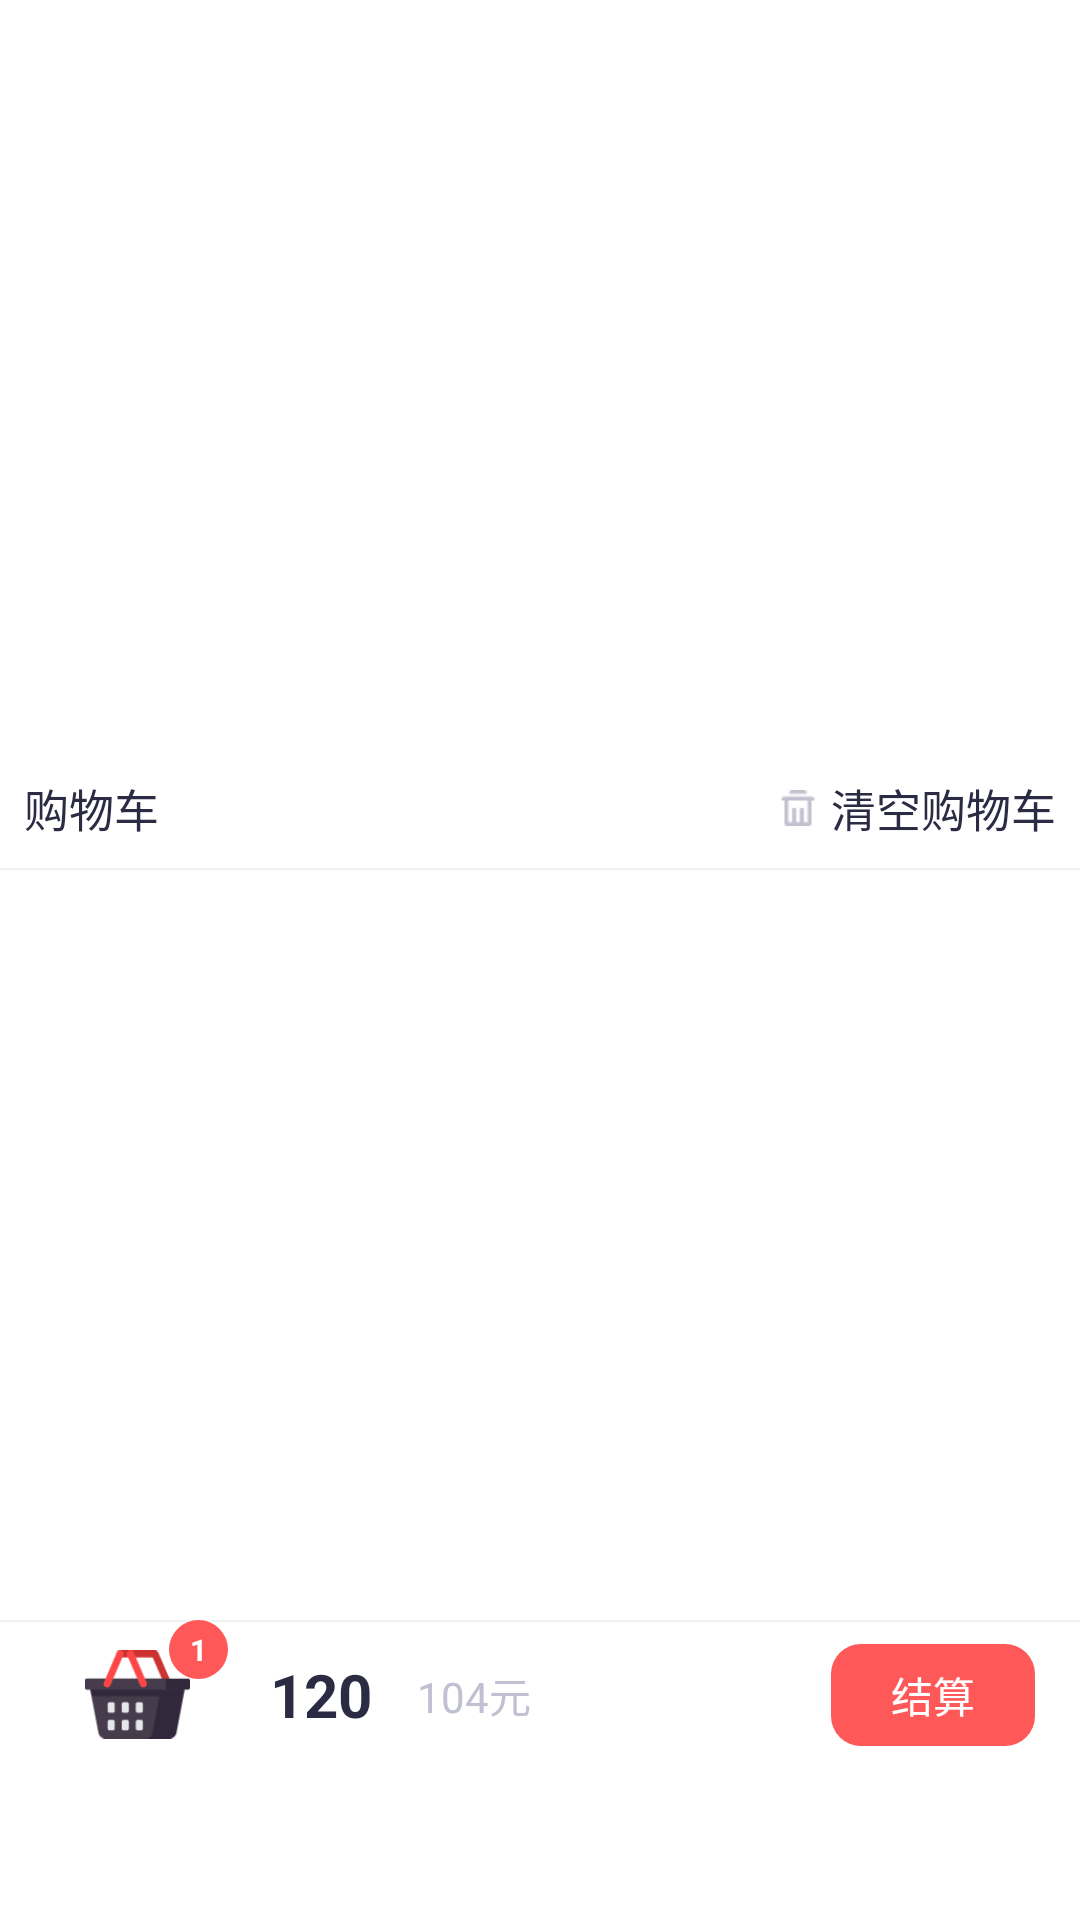

Icon click points for this 1080 × 1920 phone screenshot, format (x,y):
garbage: (798,808)
shopping basket: (137,1690)
